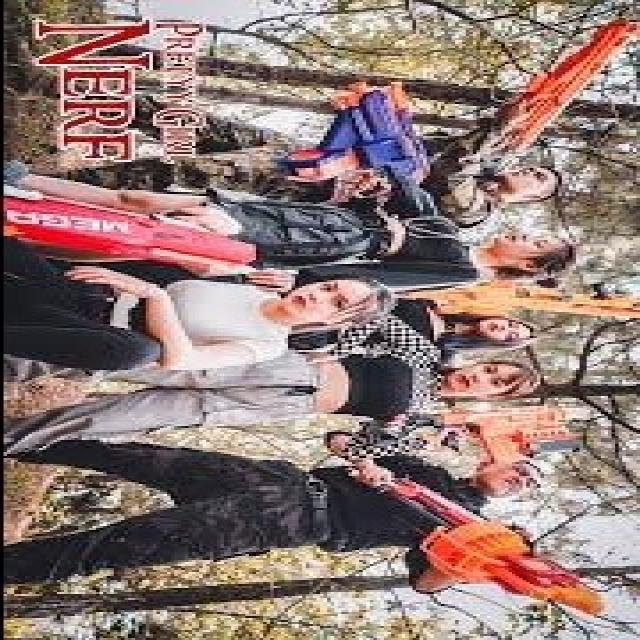Nerf gun: (345, 465, 615, 615), (476, 11, 640, 181), (3, 168, 266, 268), (284, 72, 448, 228), (412, 257, 640, 335), (411, 402, 606, 470)
